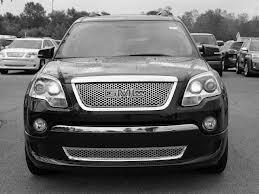car: (15, 6, 241, 186)
